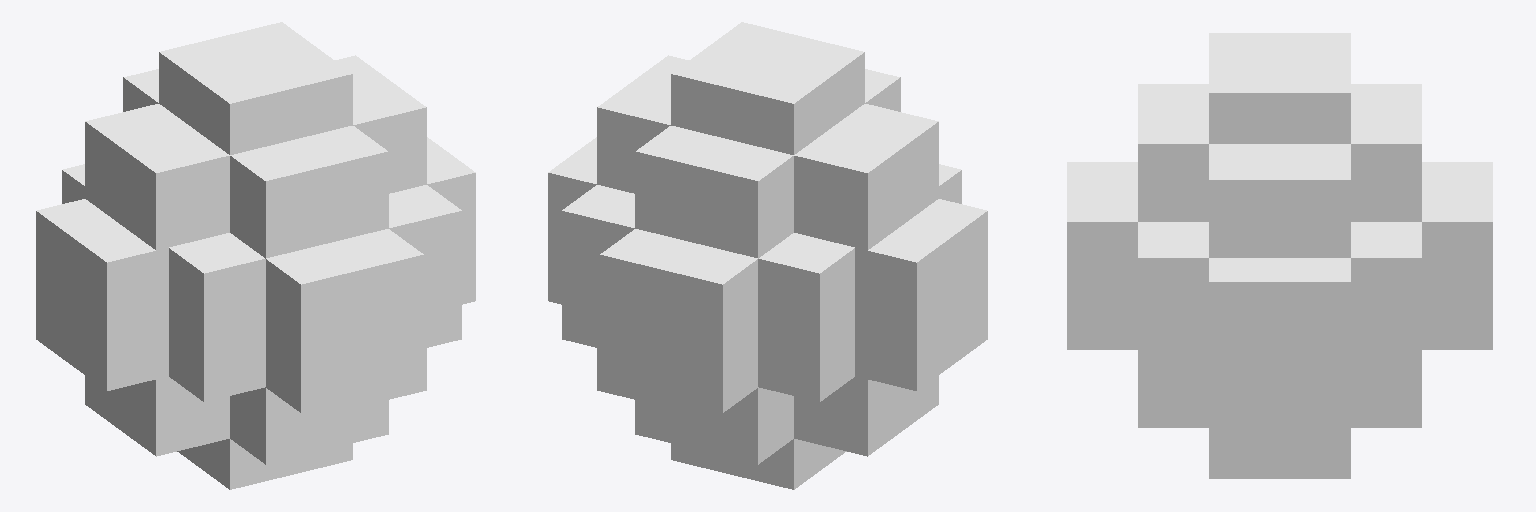
The model's file is EnergyPack.obj.
3 views of the same model, side by side, from view 1: azimuth 30°, elevation 25°; view 2: azimuth 150°, elevation 25°; view 3: azimuth 270°, elevation 25° (orthographic).
Visible parts, largest first — view 1: object 1; view 2: object 1; view 3: object 1.
Boxes of the visible parts, <box> form: object 1: <box>36,22,475,489</box>; object 1: <box>548,22,987,489</box>; object 1: <box>1067,33,1492,478</box>.
Size of the model in its own units: 3 by 3 by 3.